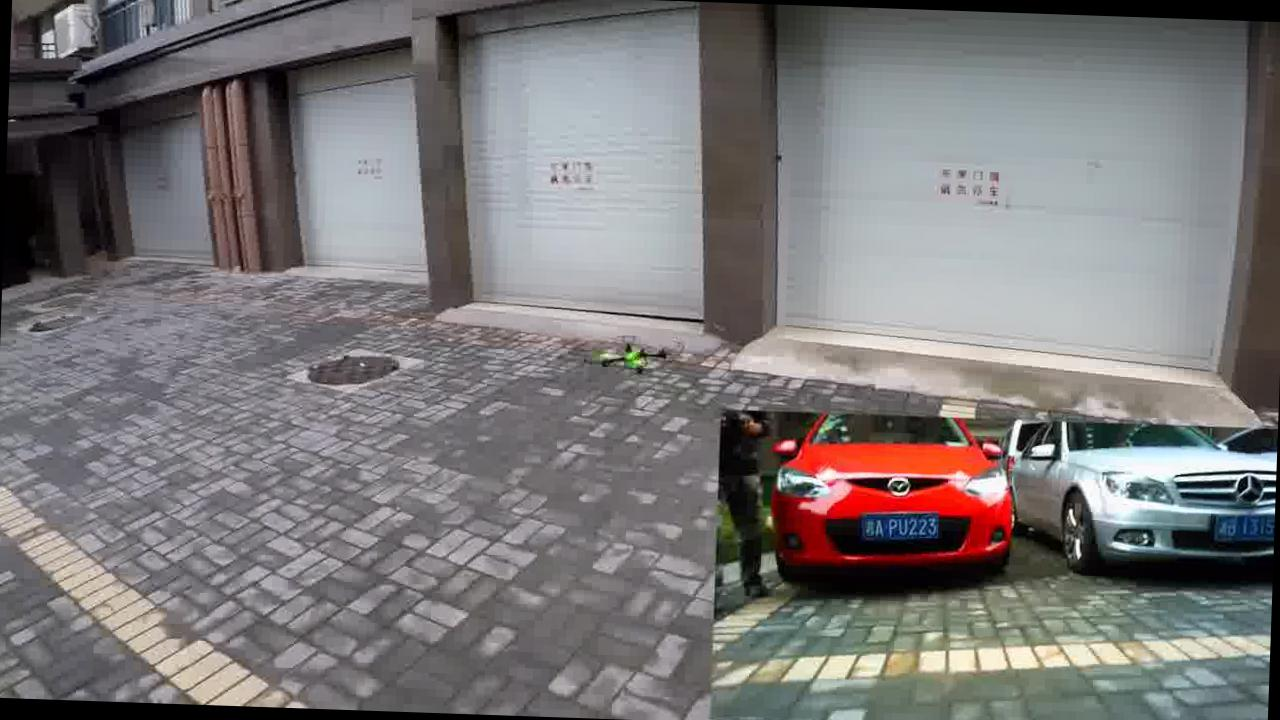drone: (584, 329, 682, 382)
